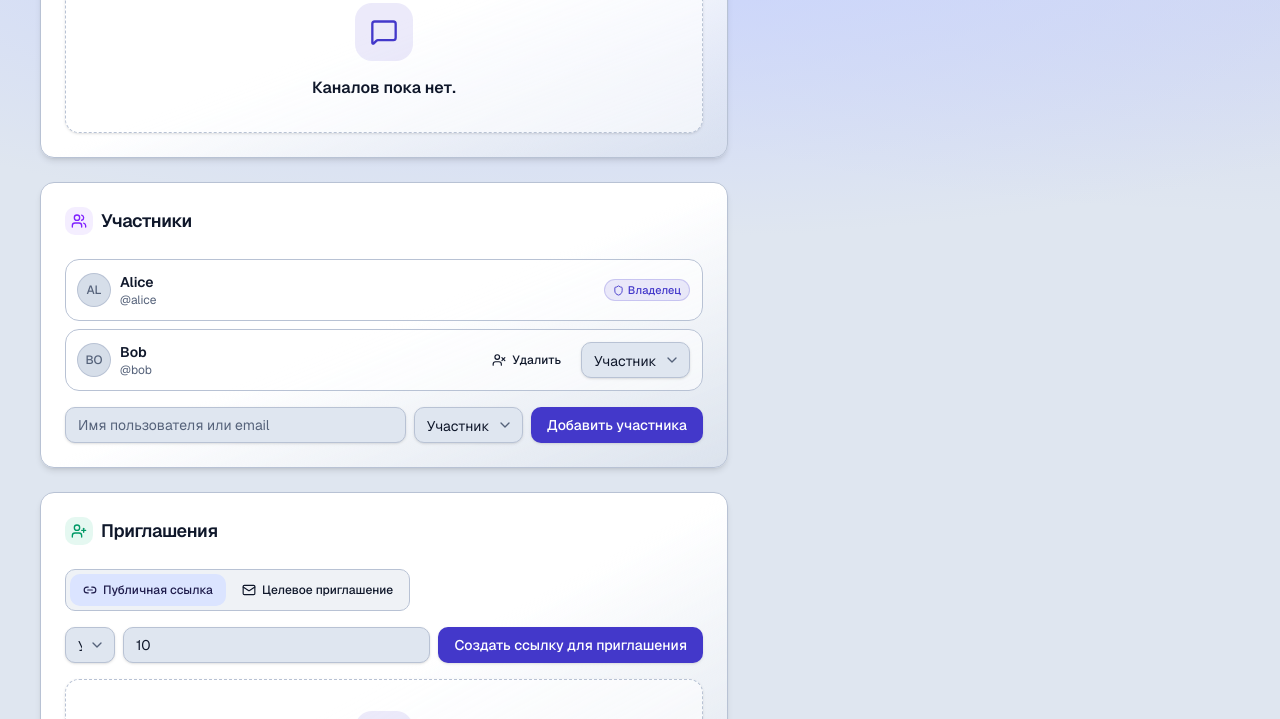
Test case: WorkspaceDetailPage — locale › shows Russian member removed message
(page scrolled)
Click the button "Удалить" at (527, 360), box [480,344,573,376]
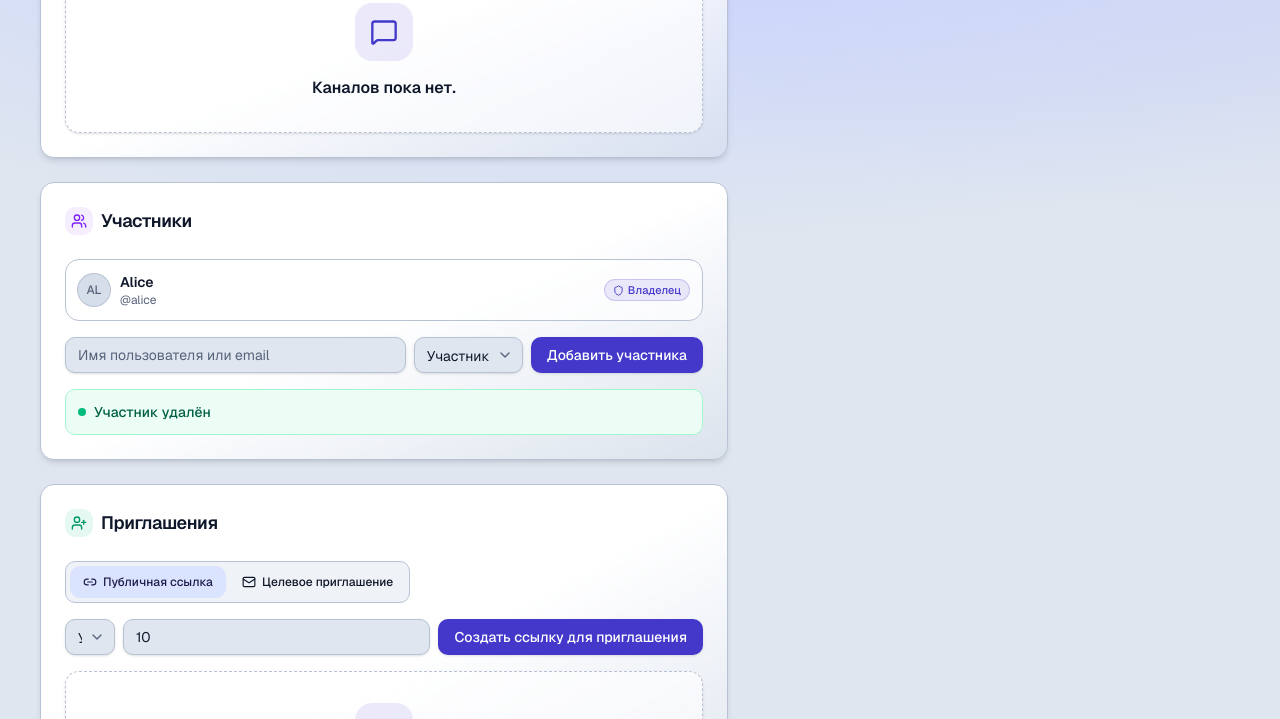
Result: the text "Bob" is gone
Result: the text "Участник удалён" is shown at [78,403,211,421]
